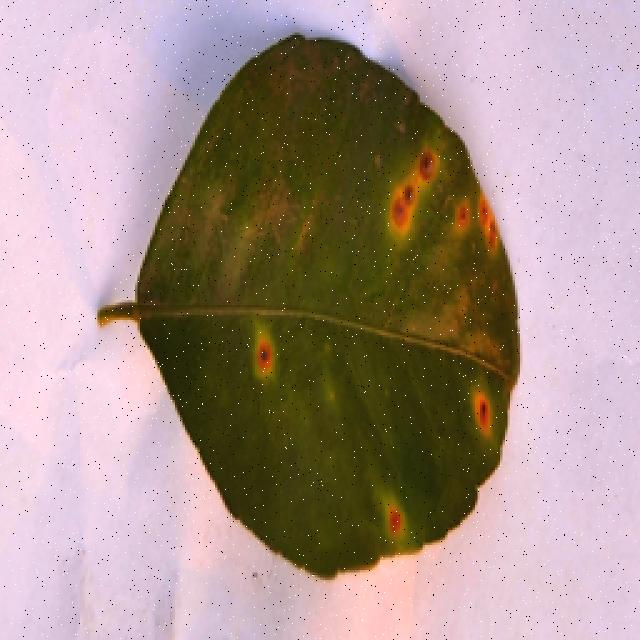canker: (151, 153, 544, 556)
